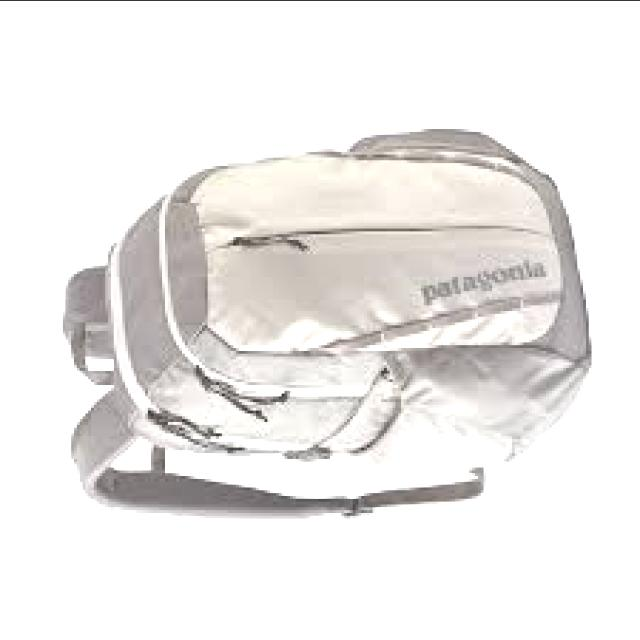backpack: (61, 130, 593, 522)
